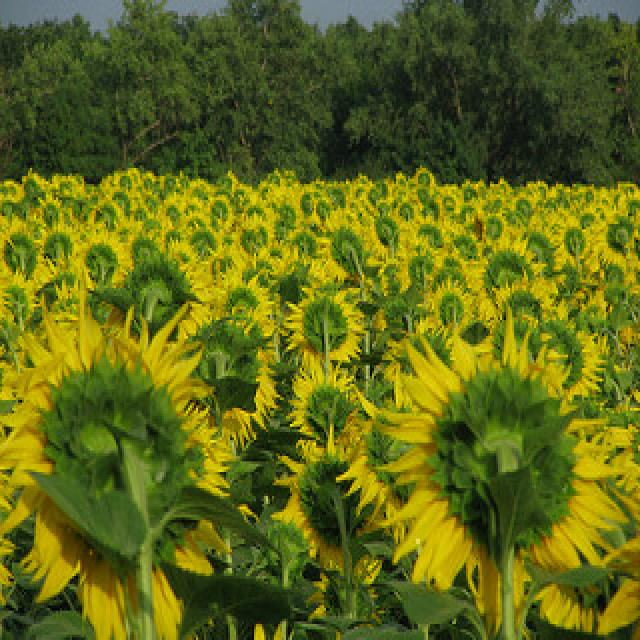sunflower: (369, 312, 619, 605), (6, 296, 200, 613), (279, 284, 367, 375), (316, 212, 380, 287)
